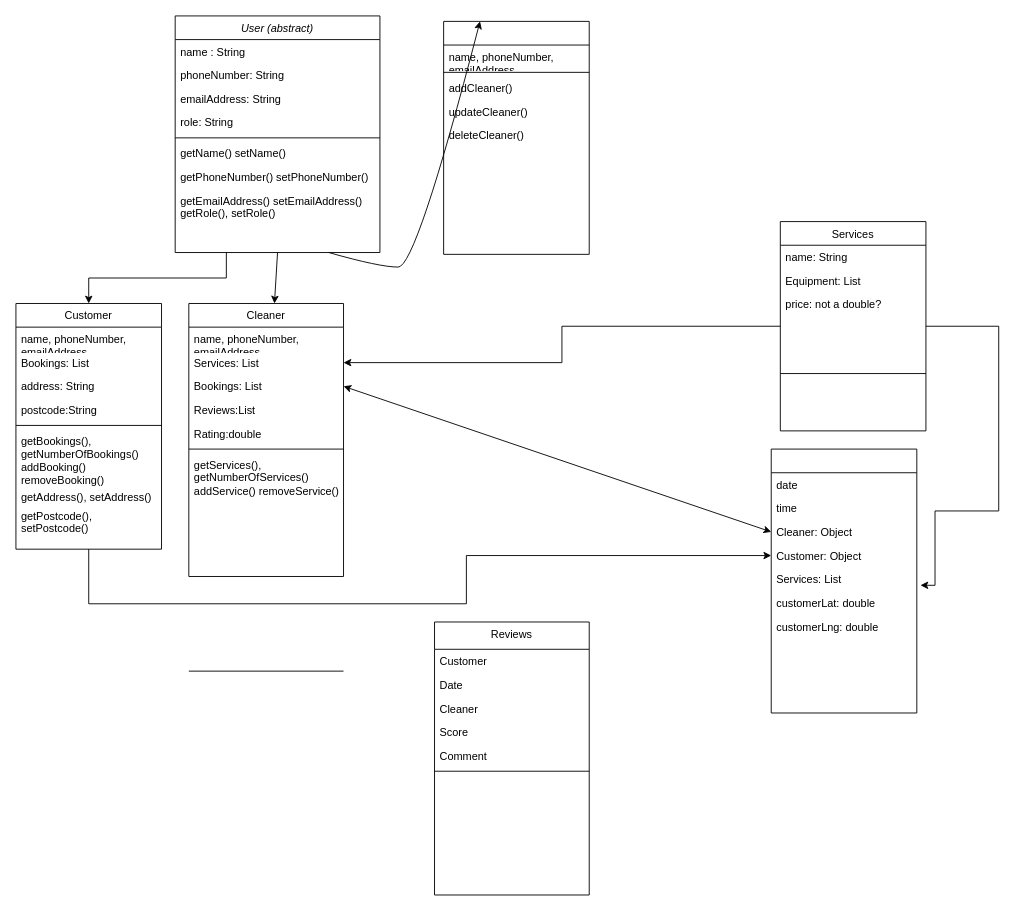
Some shapes in this 1022 by 911 pixel diagram are drawn without their labels. The shapes that lost their labels are listed below. From the top down, each one's box as (x1, y1, x2, y2) in pixels, then its label:
(443, 20, 589, 254): Admin
(770, 448, 917, 713): Booking
